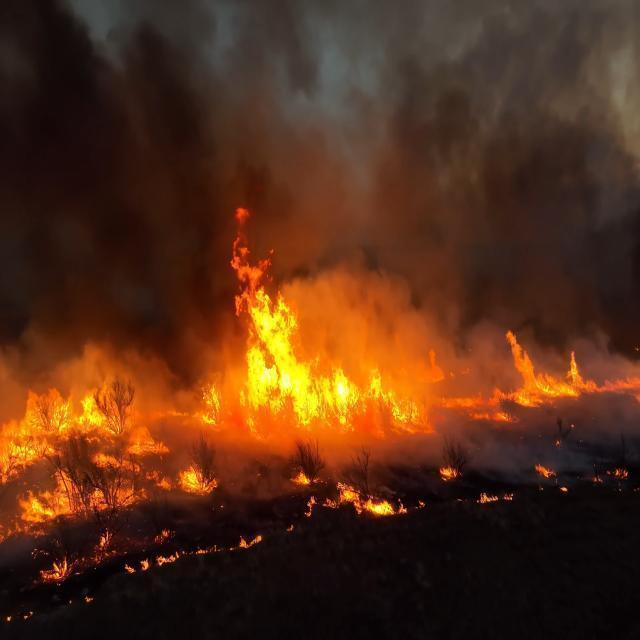Fire: (225, 216, 307, 431), (0, 369, 102, 477), (302, 352, 392, 438)
Smoke: (0, 0, 205, 356)
